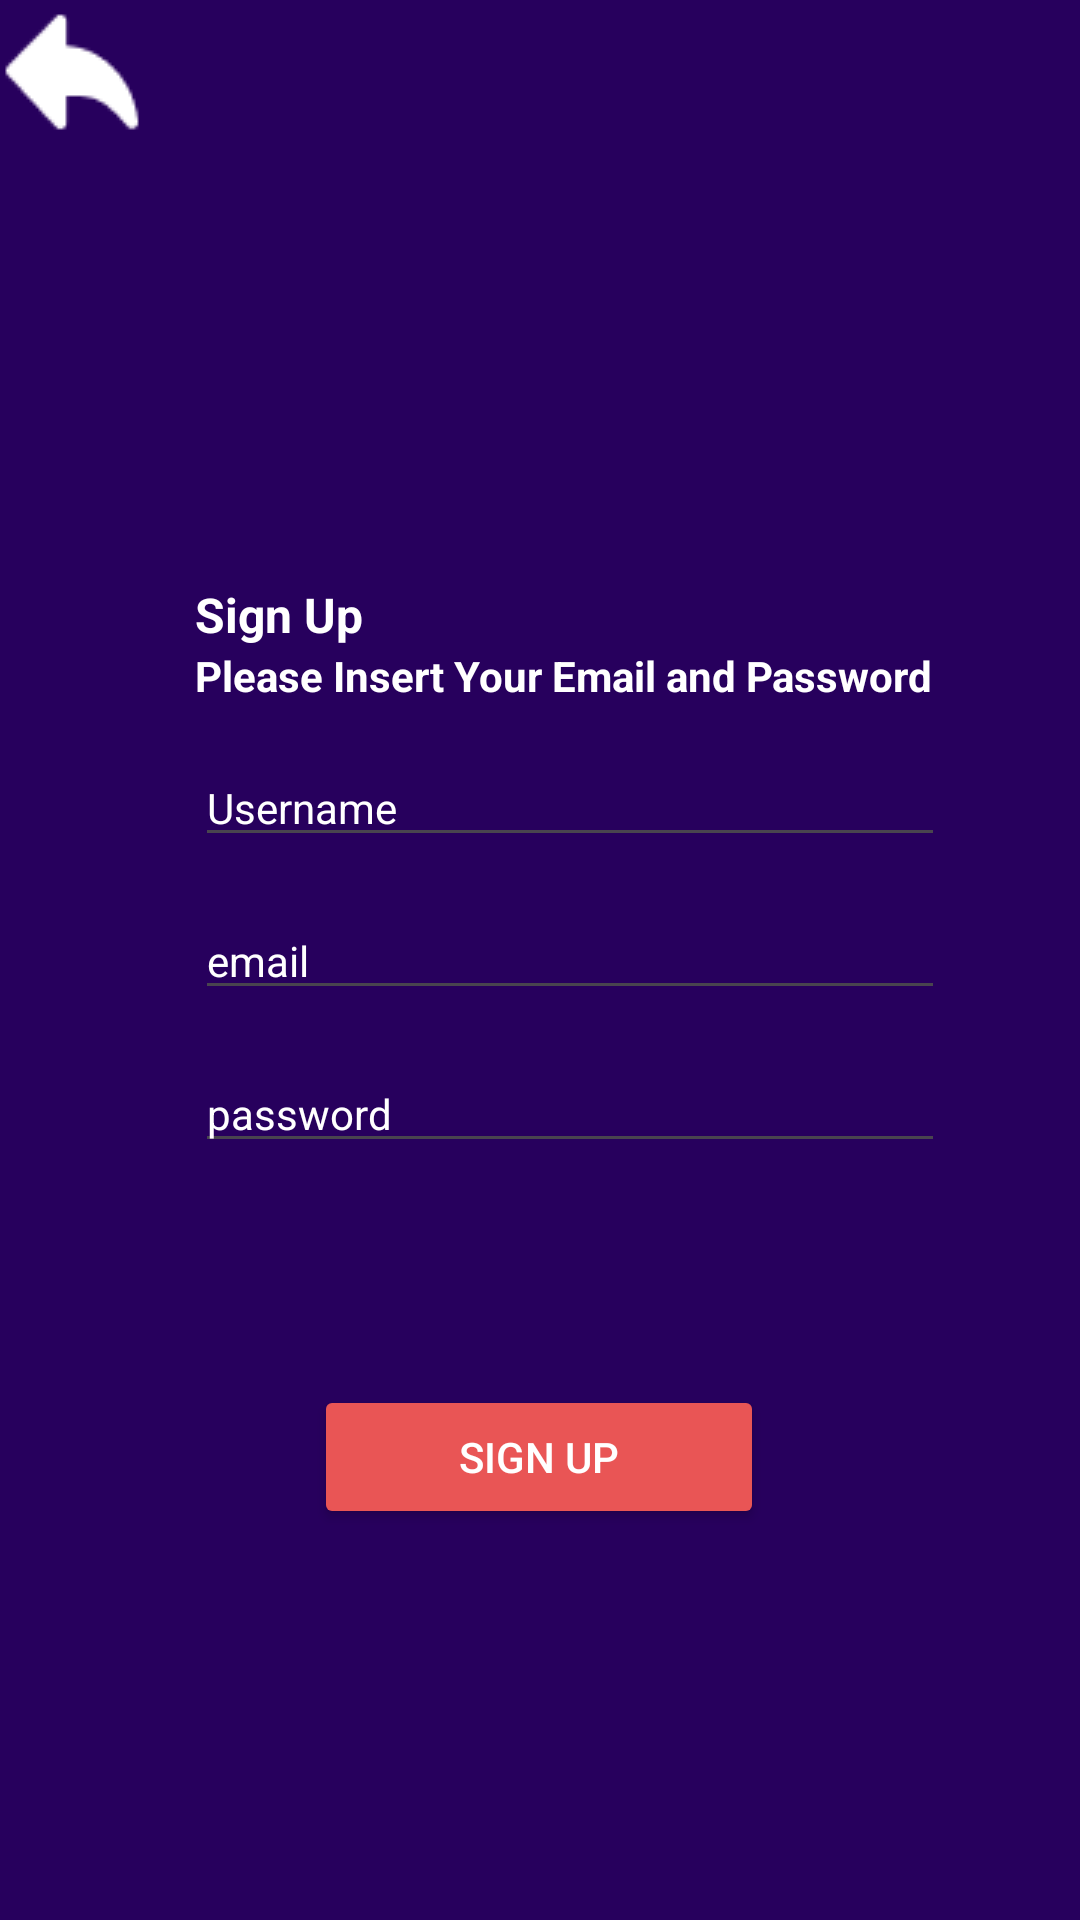

Icons on this 1080px×1920px Android screen, each with the point to tap as (x=x, y=y):
backbutton: (x=72, y=72)
